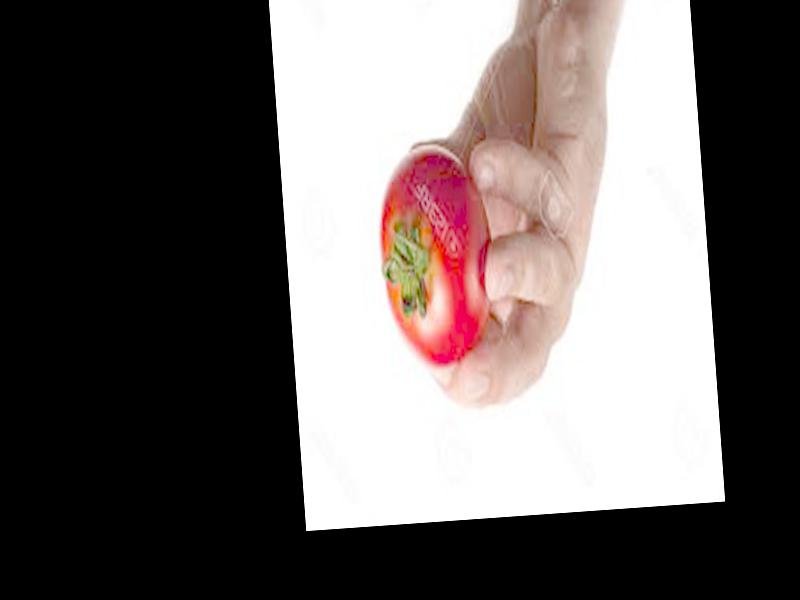Tomato: (372, 144, 497, 371)
